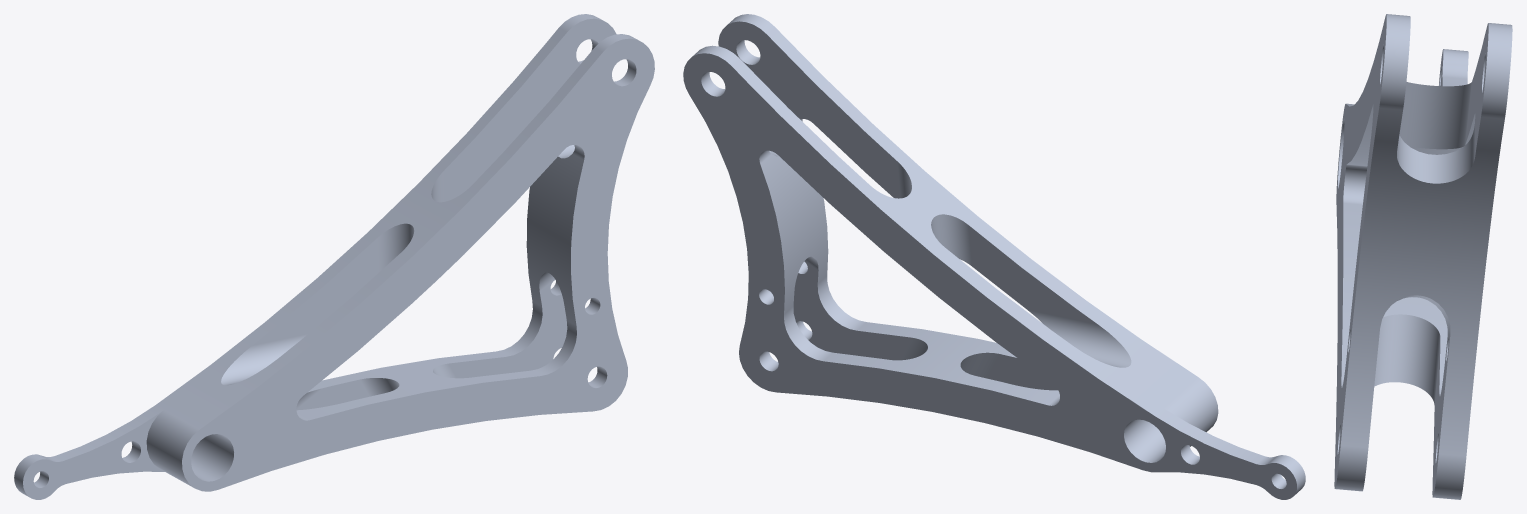
The model's file is example_project.glb.
The picture shows the model from 3 angles, left to right: view 1: azimuth 30°, elevation 25°; view 2: azimuth 150°, elevation 25°; view 3: azimuth 270°, elevation 25°; orthographic projection. The views are drawn at different scales.
Parts seen in each view (by area): view 1: Front Rockers; view 2: Front Rockers; view 3: Front Rockers.
Part boxes in pixels (x1,y1,x2,y2): Front Rockers: (14,14,654,499); Front Rockers: (683,14,1305,499); Front Rockers: (1334,14,1512,499).
Bounding box in the file's own units: 0.1989 × 0.1104 × 0.0352.
